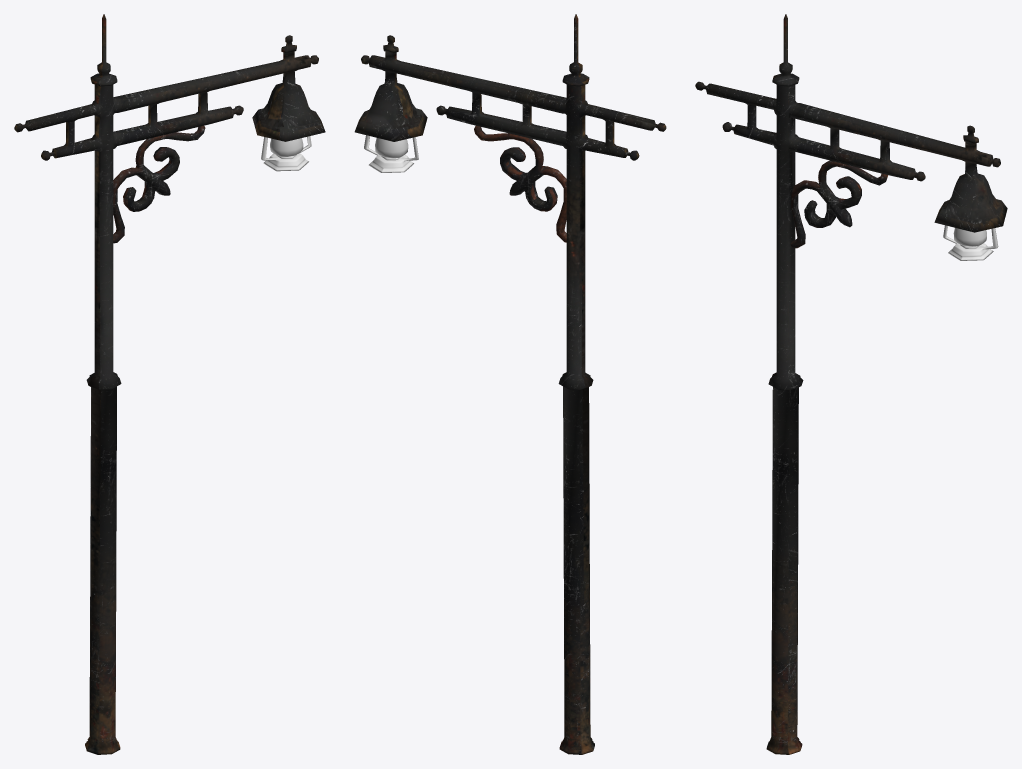
The model's file is sokaklambası.fbx.
3 views of the same model, side by side, from view 1: azimuth 30°, elevation 25°; view 2: azimuth 150°, elevation 25°; view 3: azimuth 330°, elevation 25° (orthographic).
Visible parts, largest first — view 1: Cylinder, Cylinder.001, yaglambası.001; view 2: Cylinder, Cylinder.001, yaglambası.001; view 3: Cylinder, Cylinder.001, yaglambası.001.
Boxes of the visible parts, x1,y1,x2,y2 form: Cylinder: [14, 14, 325, 754]; Cylinder.001: [113, 125, 205, 243]; yaglambası.001: [261, 136, 311, 171]; Cylinder: [354, 14, 666, 754]; Cylinder.001: [474, 125, 566, 242]; yaglambası.001: [364, 135, 418, 172]; Cylinder: [695, 14, 1007, 754]; Cylinder.001: [790, 160, 887, 248]; yaglambası.001: [943, 225, 998, 260].
Size of the model in its own units: 57.65 by 132 by 10.87.
4 materials, 2 textured.
